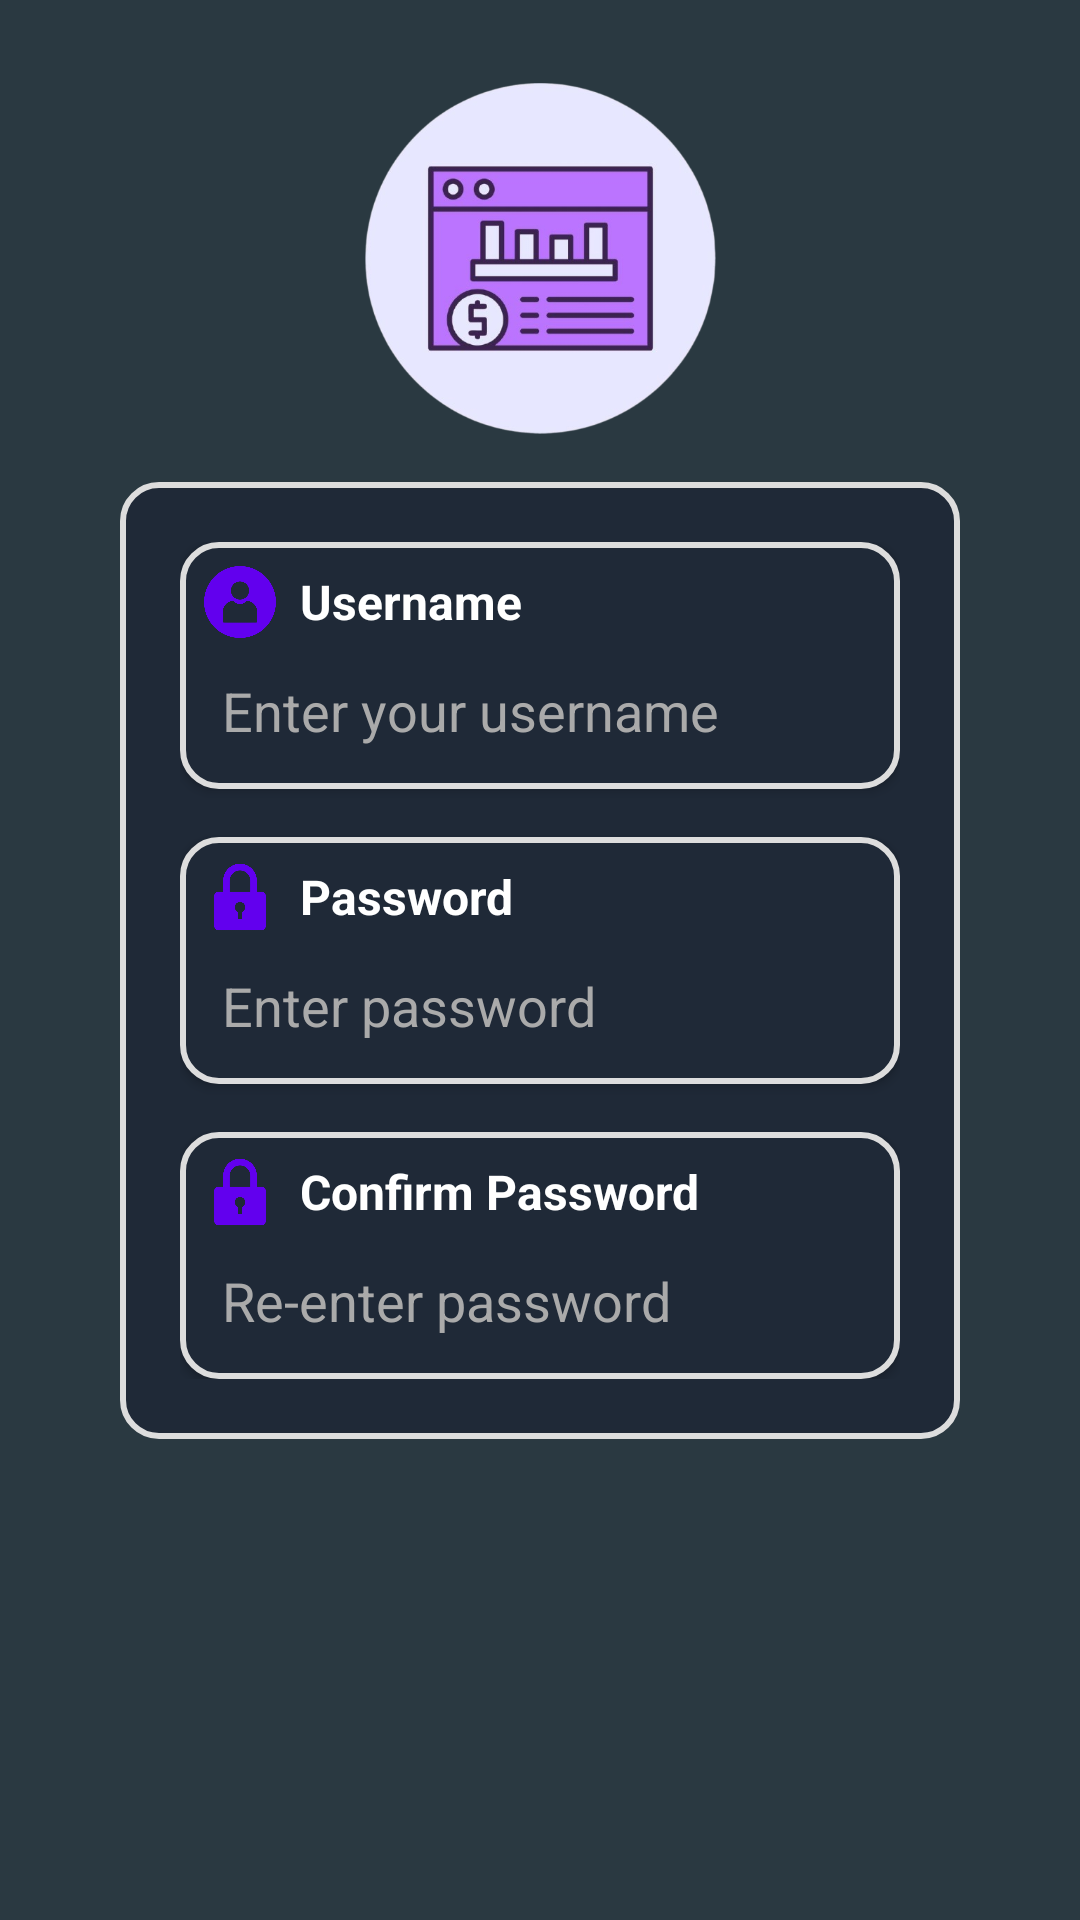

Named icons in this screenshot (1080 × 1920) and their centers, (x,y):
person: (240,602)
